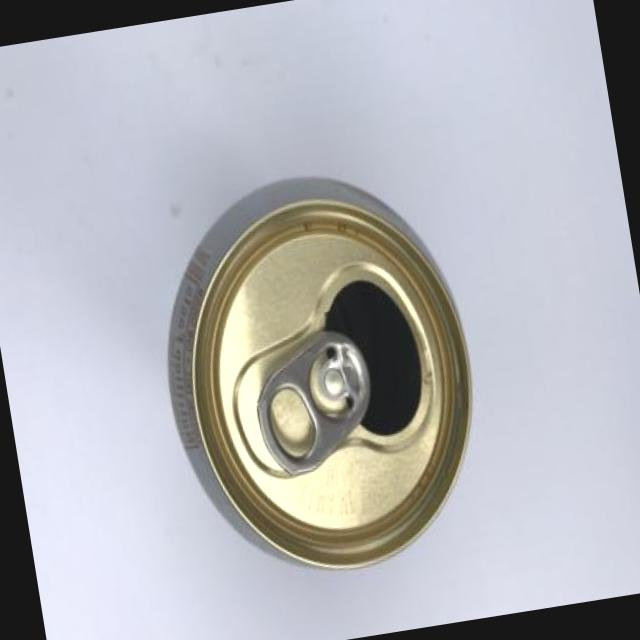kim_loai: (166, 172, 473, 571)
